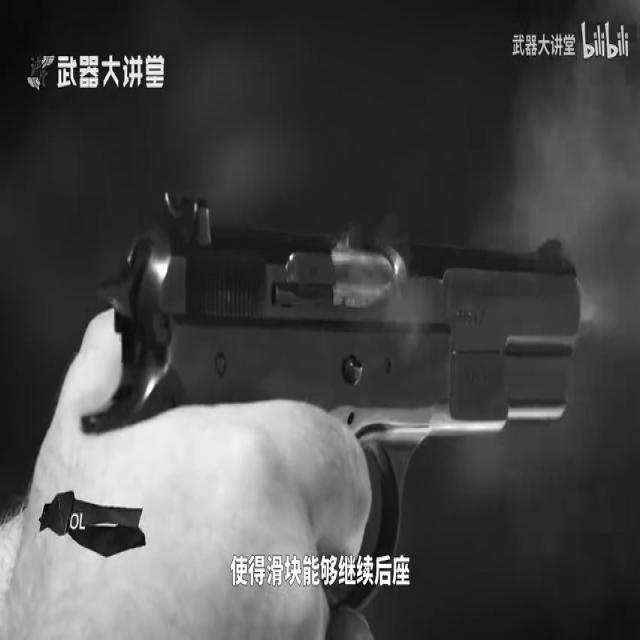Hand-Gun: (94, 203, 577, 432)
